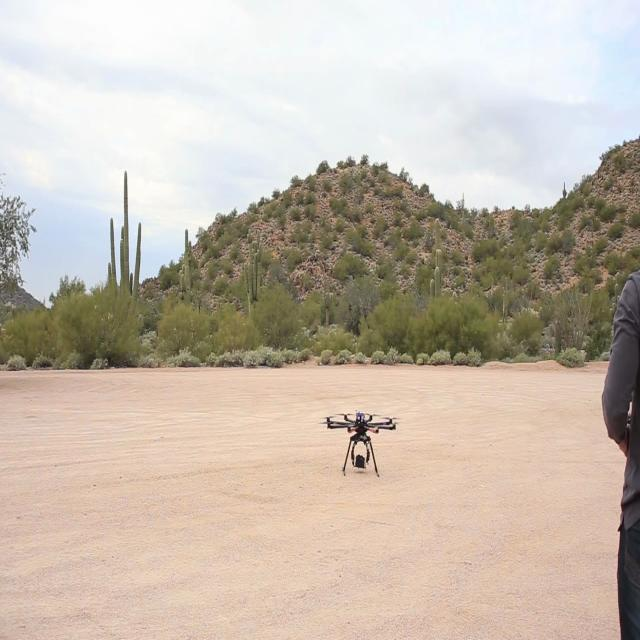drone: (318, 398, 405, 490)
